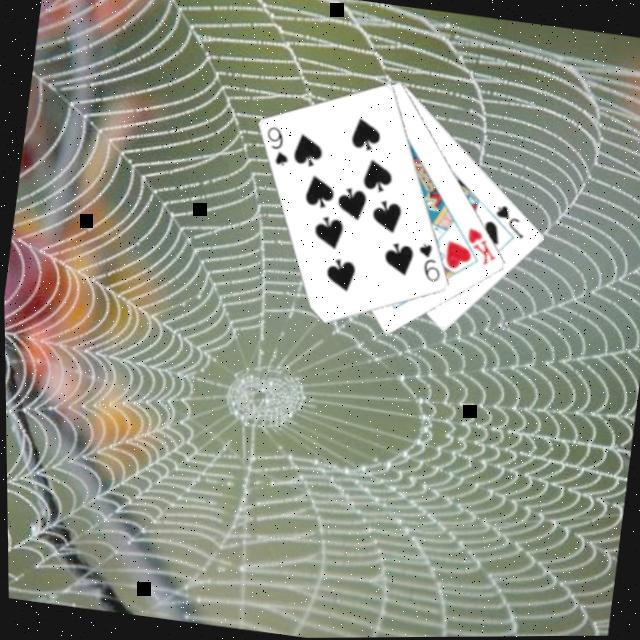9S: (410, 240, 447, 288), (258, 123, 295, 171)
JS: (488, 201, 530, 244)
KH: (459, 226, 502, 271)
